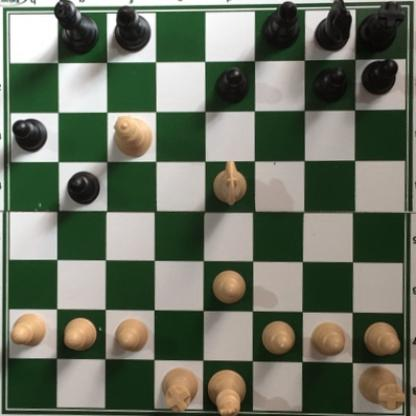black-bishop: (113, 3, 152, 54), (261, 1, 300, 49)
black-king: (51, 1, 98, 56)
black-knight: (315, 1, 354, 54)
black-pawn: (361, 56, 398, 96), (10, 117, 48, 153), (213, 66, 248, 105), (311, 66, 346, 104), (66, 170, 101, 205)
black-rook: (356, 1, 403, 54)
white-king: (204, 368, 247, 416)
white-knight: (212, 158, 247, 209)
white-pawn: (8, 309, 48, 347), (61, 314, 98, 353), (211, 267, 247, 306), (360, 322, 400, 357), (113, 316, 150, 352), (309, 322, 347, 357), (261, 320, 296, 355)
white-queen: (110, 113, 155, 156)
white-rook: (354, 362, 406, 411), (158, 368, 198, 414)
